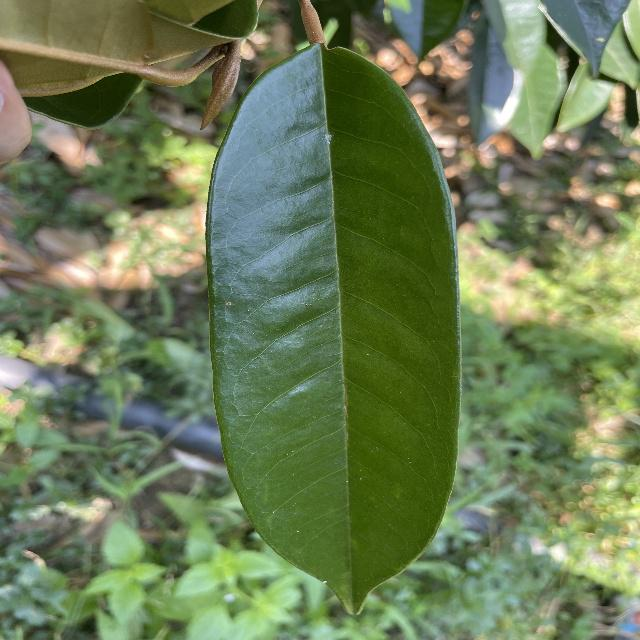No Disease: (195, 37, 471, 621)
